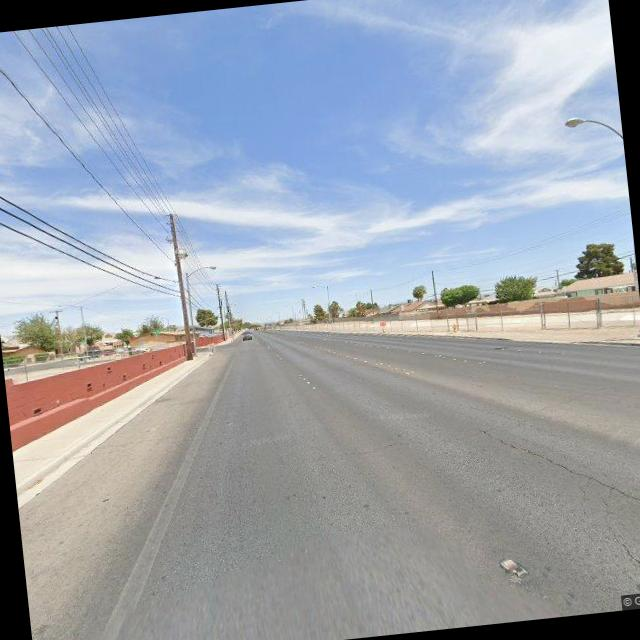crack: (475, 409, 640, 537), (607, 526, 640, 594)
